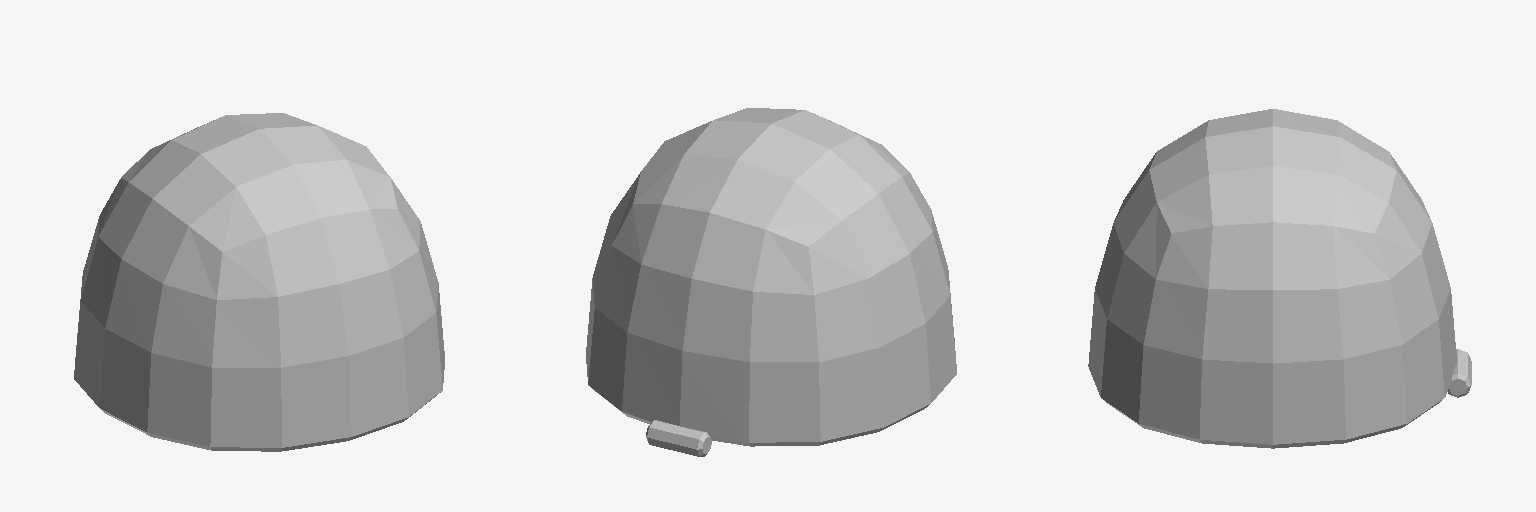
The model's file is HeadTop.obj.
3 renders of one model, left to right at view 1: azimuth 30°, elevation 25°; view 2: azimuth 150°, elevation 25°; view 3: azimuth 270°, elevation 25°, orthographic.
Visible parts, largest first — view 1: HeadTop; view 2: HeadTop; view 3: HeadTop.
Boxes of the visible parts, x1,y1,x2,y2 form: HeadTop: [74, 113, 444, 451]; HeadTop: [586, 108, 956, 456]; HeadTop: [1088, 109, 1471, 448].
Size of the model in its own units: 0.5066 by 0.3928 by 0.526.